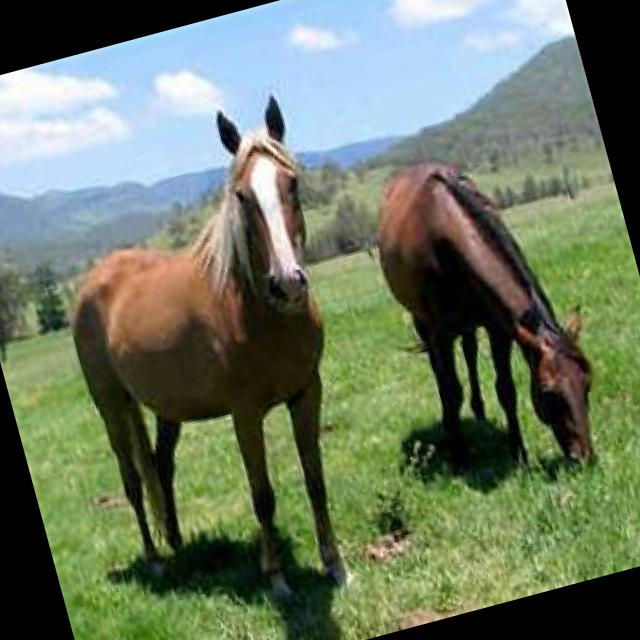animal: (24, 89, 410, 638), (354, 127, 622, 507)
